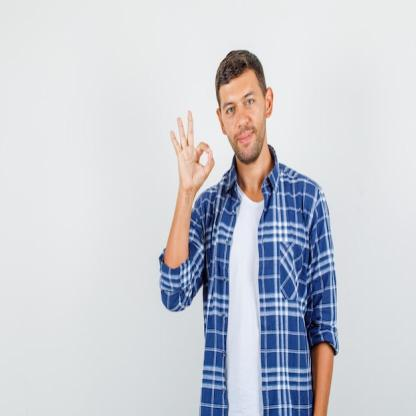ok: (166, 104, 217, 198)
